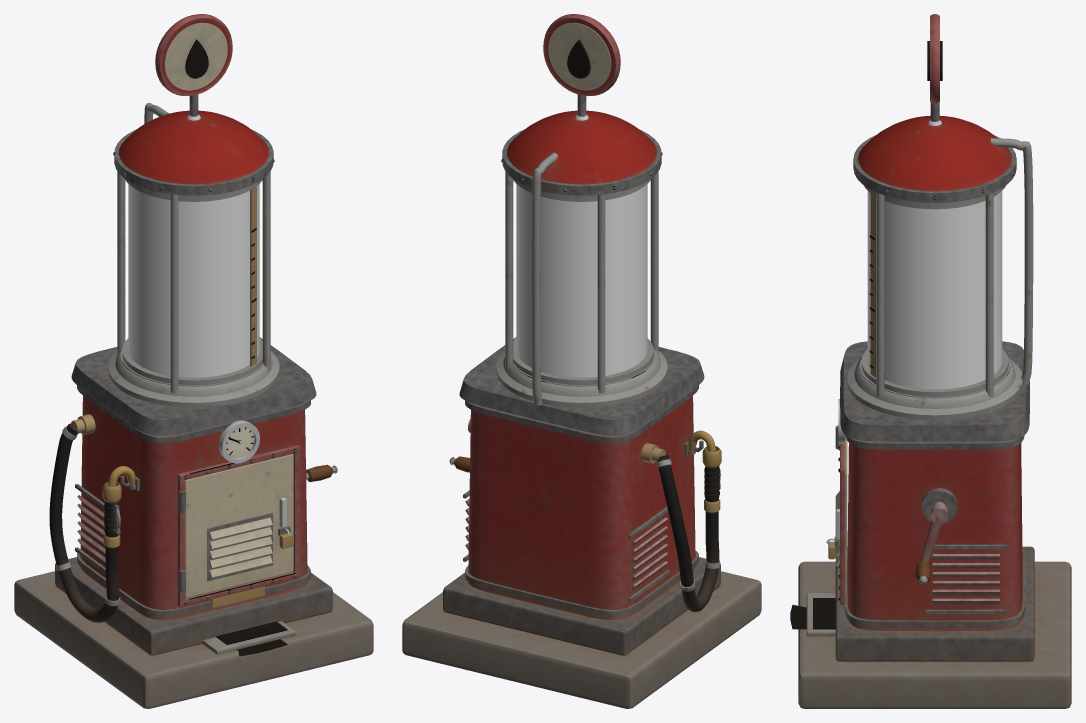
The model's file is GasPumpV2.fbx.
3 renders of one model, left to right at view 1: azimuth 30°, elevation 25°; view 2: azimuth 150°, elevation 25°; view 3: azimuth 270°, elevation 25°, orthographic. The views are drawn at different scales.
Parts seen in each view (by area): view 1: GasPump, GlassTube, Nozzle; view 2: GasPump, GlassTube, Nozzle; view 3: GasPump, GlassTube, HandCrank.
Part boxes in pixels (<box>): GasPump: <box>14,14,373,708</box>; GlassTube: <box>128,184,259,377</box>; Nozzle: <box>102,466,135,547</box>; GasPump: <box>402,14,761,708</box>; GlassTube: <box>516,184,647,377</box>; Nozzle: <box>688,430,721,512</box>; GasPump: <box>790,14,1071,708</box>; GlassTube: <box>867,191,1002,389</box>; HandCrank: <box>915,488,957,584</box>.
Size of the model in its own units: 97.22 by 219 by 87.92.
5 materials, 4 textured.
